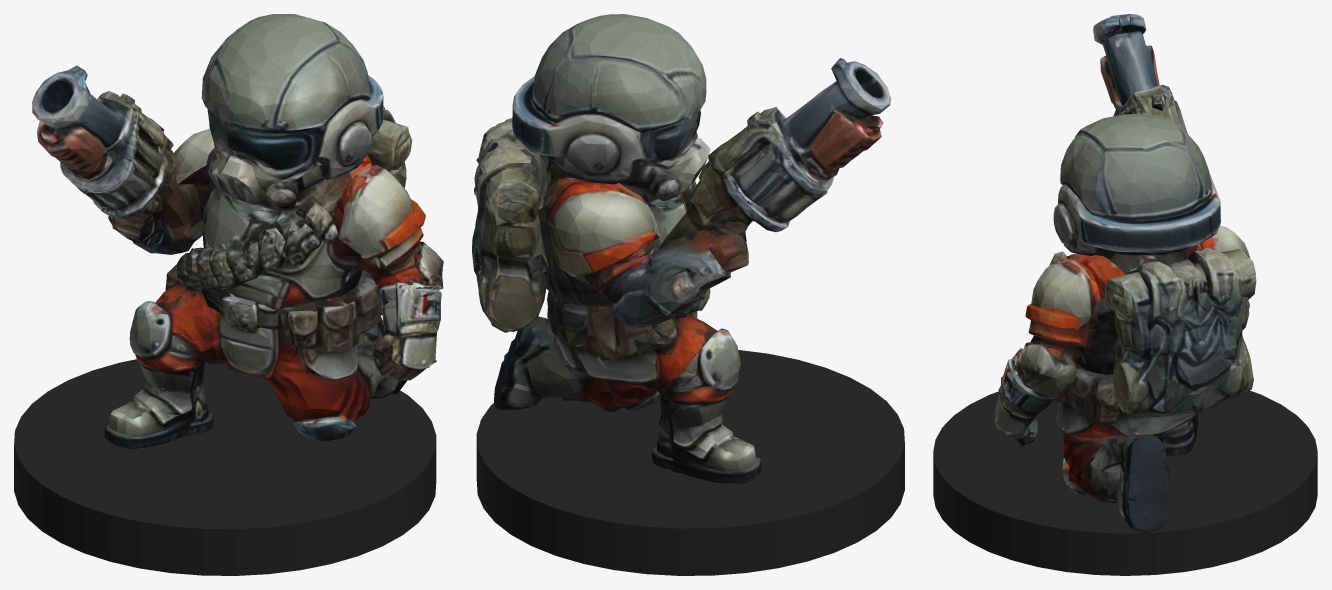
Rendered from ks-gunner-grenade-launcher.glb.
The picture shows the model from 3 angles, left to right: view 1: azimuth 30°, elevation 25°; view 2: azimuth 150°, elevation 25°; view 3: azimuth 270°, elevation 25°; orthographic projection. The views are drawn at different scales.
Parts seen in each view (by area): view 1: figure, base; view 2: figure, base; view 3: figure, base.
Part boxes in pixels (<box>): figure: <box>32,14,443,448</box>; base: <box>14,359,436,575</box>; figure: <box>472,14,890,483</box>; base: <box>476,350,904,575</box>; figure: <box>994,14,1256,532</box>; base: <box>933,390,1317,575</box>.
Bounding box in the file's own units: 1.02 × 1.17 × 0.9843.
2 materials, 1 textured.
